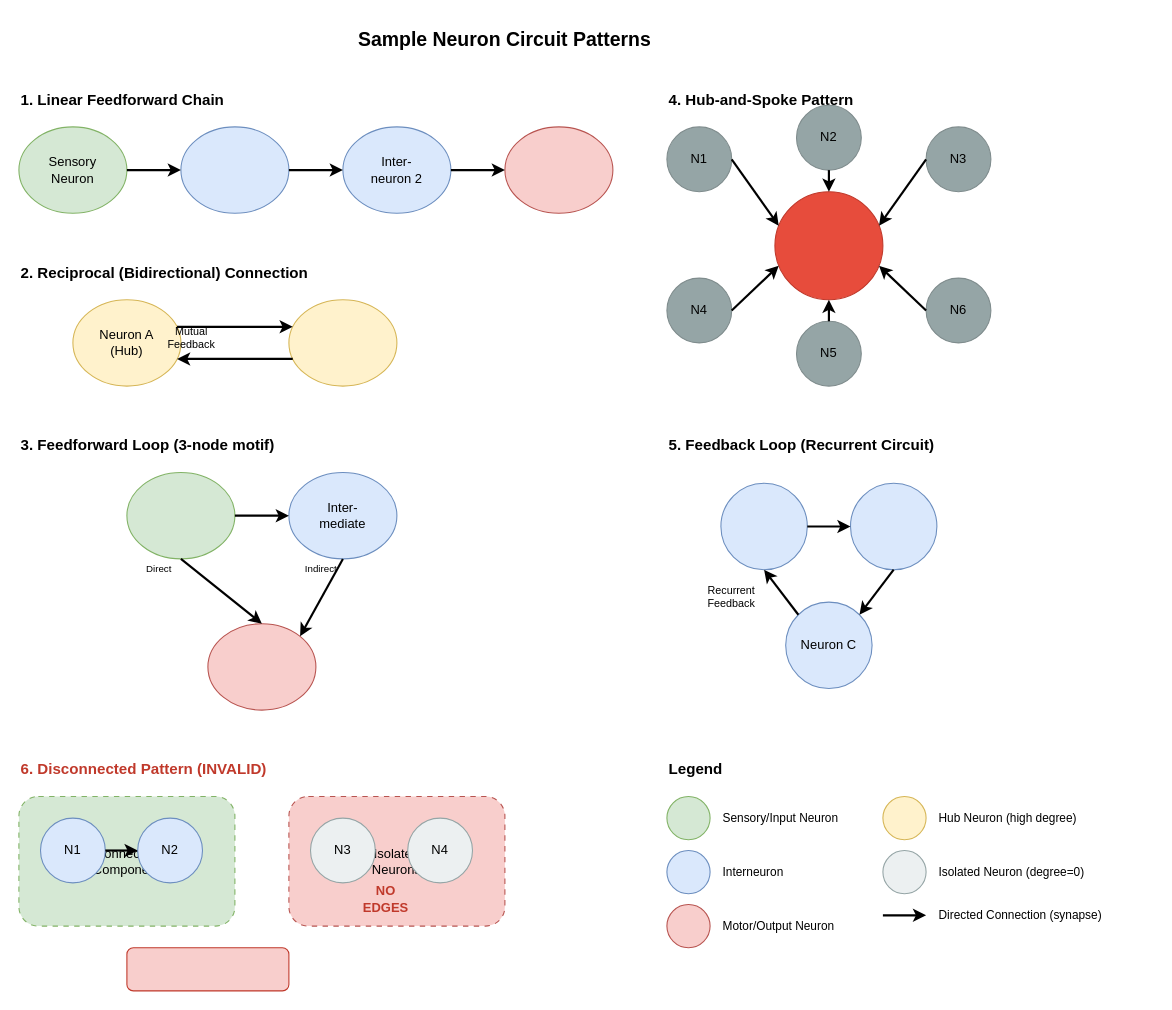
The diagram is 1172 pixels wide and 1010 high, and some of its shapes have lost their labels. The centre of each missing label's shape, as x and y in pixels:
"Hub Neuron (degree=6)" belongs at point 828,245.
"Input Neuron" belongs at point 180,515.
"Inter- neuron 1" belongs at point 234,169.
"Motor Neuron" belongs at point 558,169.
"Neuron A" belongs at point 763,526.
"Neuron B" belongs at point 893,526.
"Neuron B (Hub)" belongs at point 342,342.
"NOT WEAKLY CONNECTED" belongs at point 207,969.
"Output Neuron" belongs at point 261,666.
